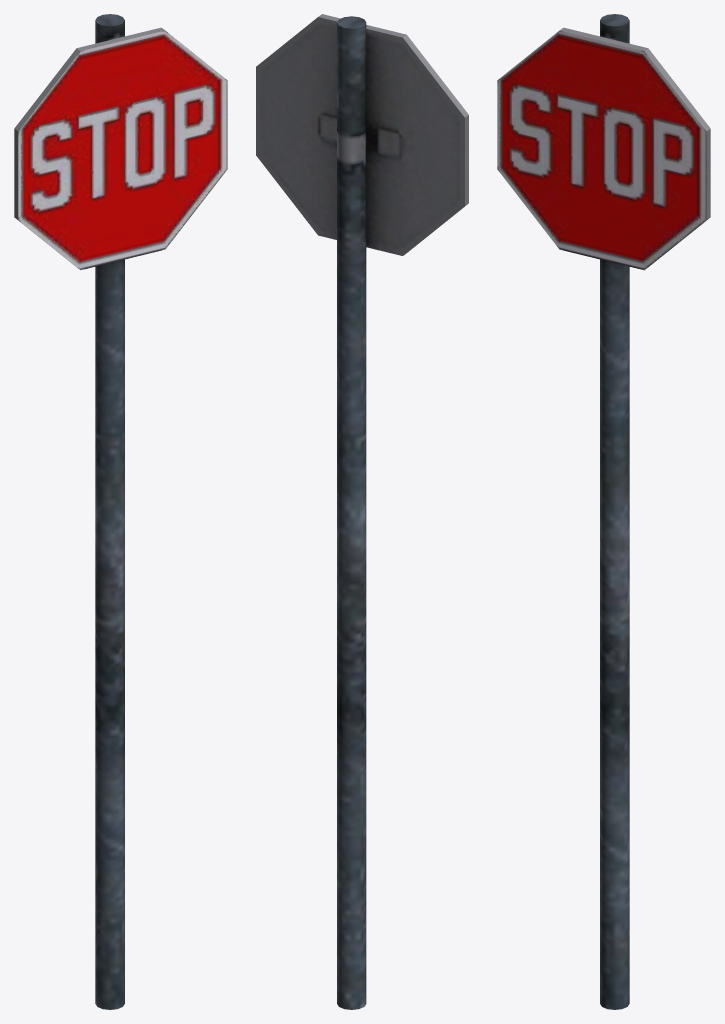
The model's file is Roadsign2.gltf.
The picture shows the model from 3 angles, left to right: view 1: azimuth 30°, elevation 25°; view 2: azimuth 150°, elevation 25°; view 3: azimuth 330°, elevation 25°; orthographic projection.
Parts seen in each view (by area): view 1: Cylinder02; view 2: Cylinder02; view 3: Cylinder02.
Part boxes in pixels (<box>): Cylinder02: <box>14,14,227,1009</box>; Cylinder02: <box>256,14,468,1009</box>; Cylinder02: <box>497,14,710,1009</box>.
Bounding box in the file's own units: 0.8029 × 3.6 × 0.1347.
Materials: 1 (1 with a texture image).
